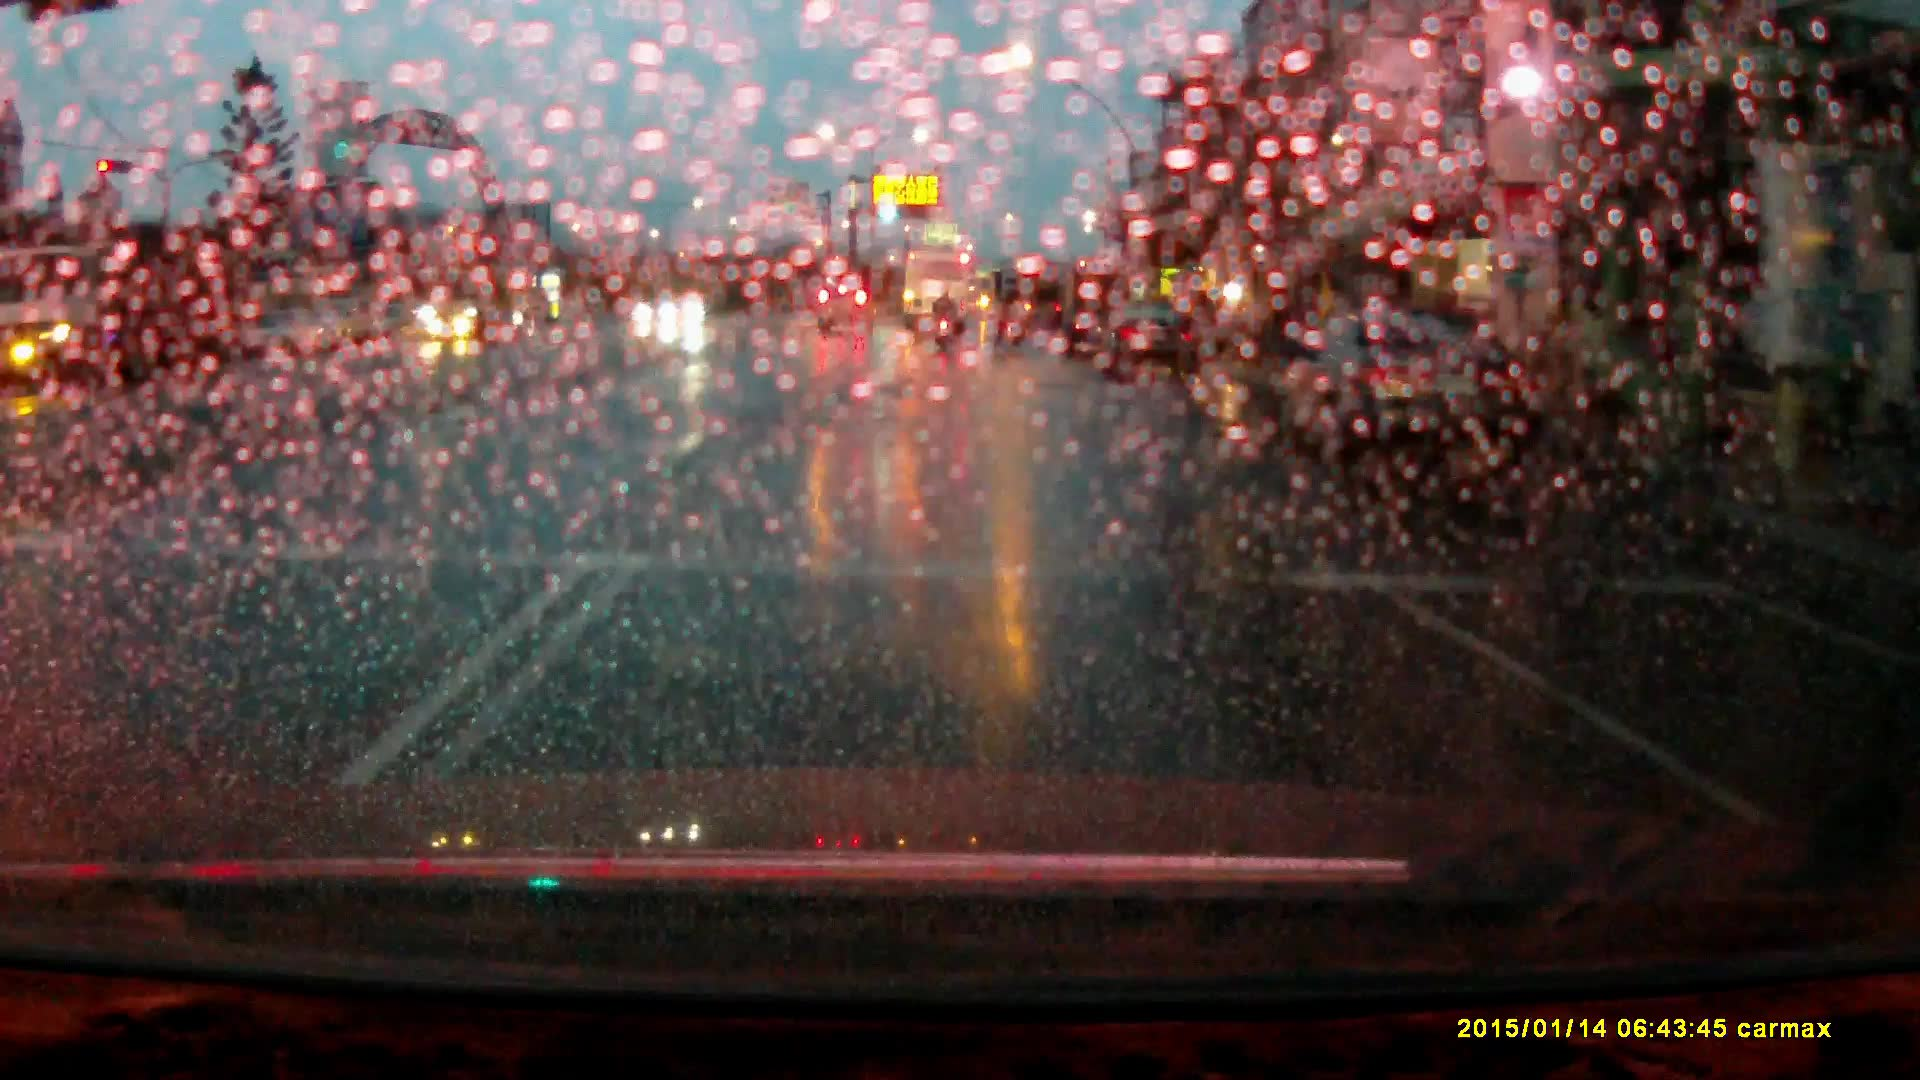rider: (932, 288, 957, 351)
vehicle: (1285, 314, 1526, 478), (1, 242, 238, 396), (417, 265, 543, 342), (1100, 307, 1195, 382), (903, 249, 973, 335), (814, 286, 877, 337), (657, 293, 706, 326)
